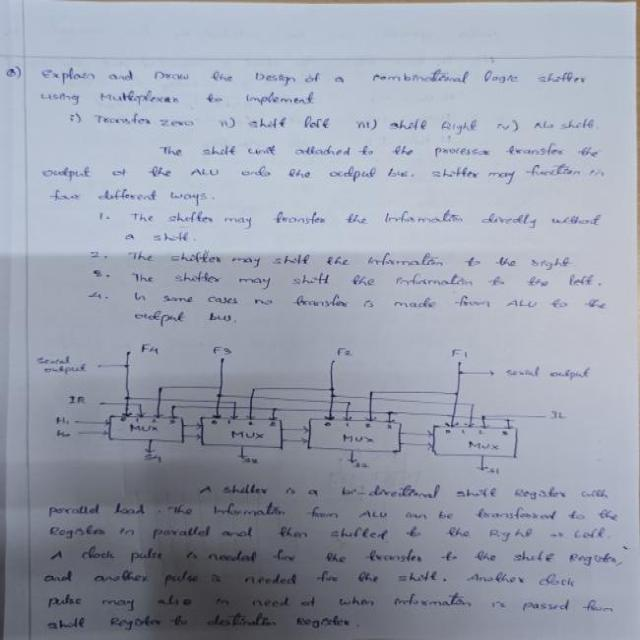Figure Detection - v3 Dataset Version2: (24, 330, 614, 483)
